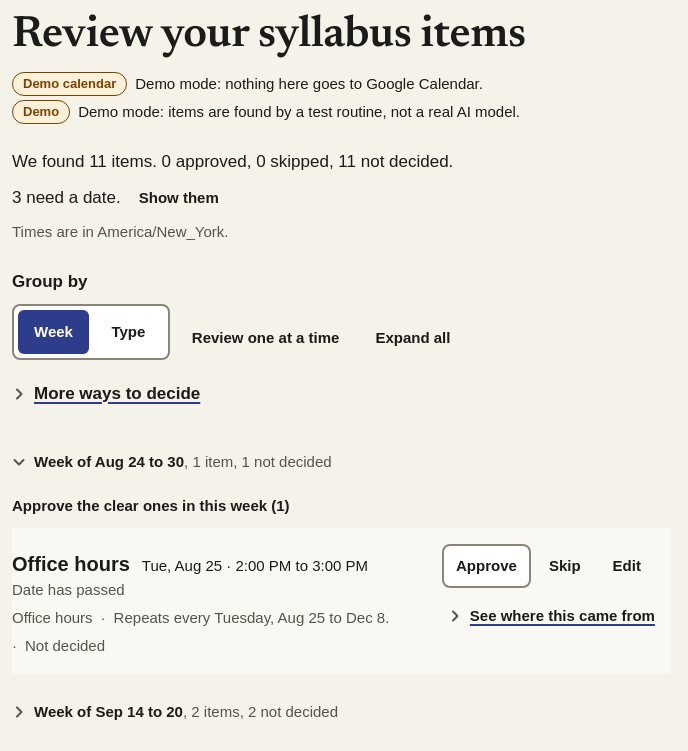
Test: Review list (F1) › group by Type is a radio group, remembered locally; Week stays the default
Expected: the text "We found 11 items. 0 approved, 0 skipped, 11 not decided." is shown, [12,148,453,176]
Click the radio button labelled "Type" at (128, 332), box [93,310,164,354]
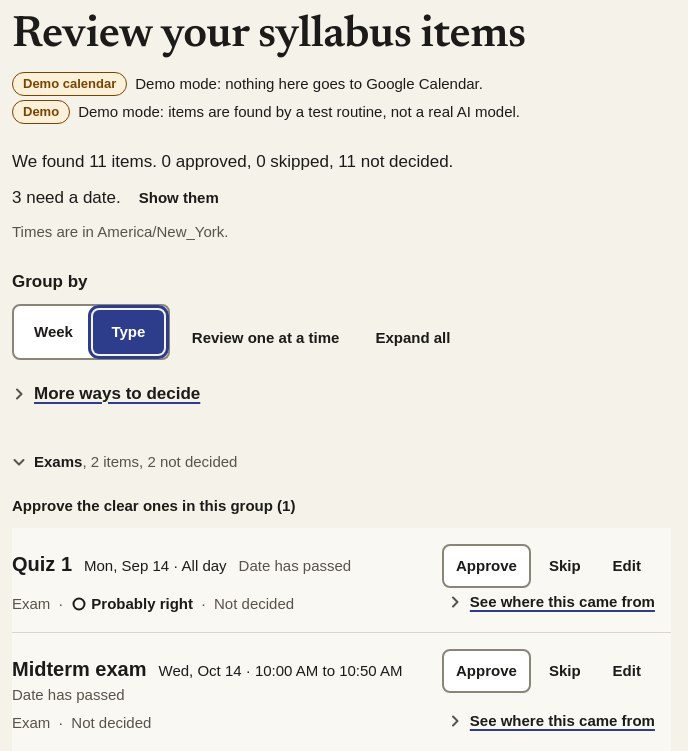
Expected: the heading "Exams, 2 items, 2 not decided" is shown, [12,440,655,484]
